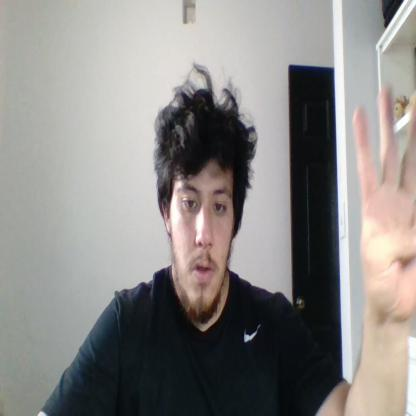W: (352, 83, 416, 316)
